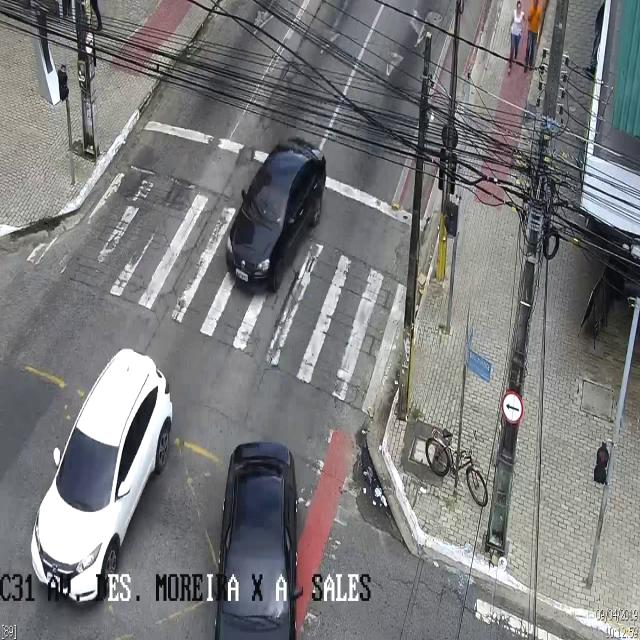Car: (30, 344, 174, 601), (211, 441, 303, 639), (226, 136, 326, 300)
